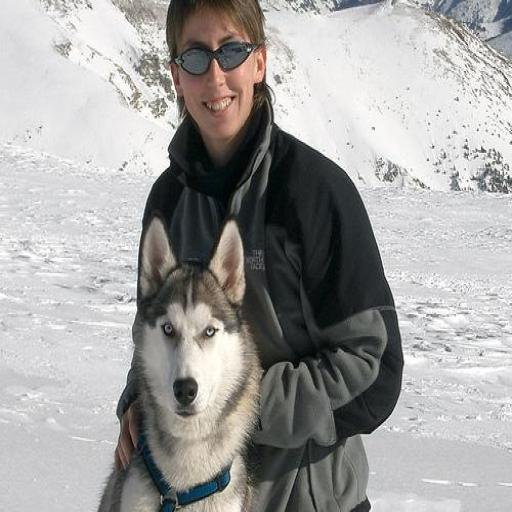dog_face: (136, 225, 247, 432)
